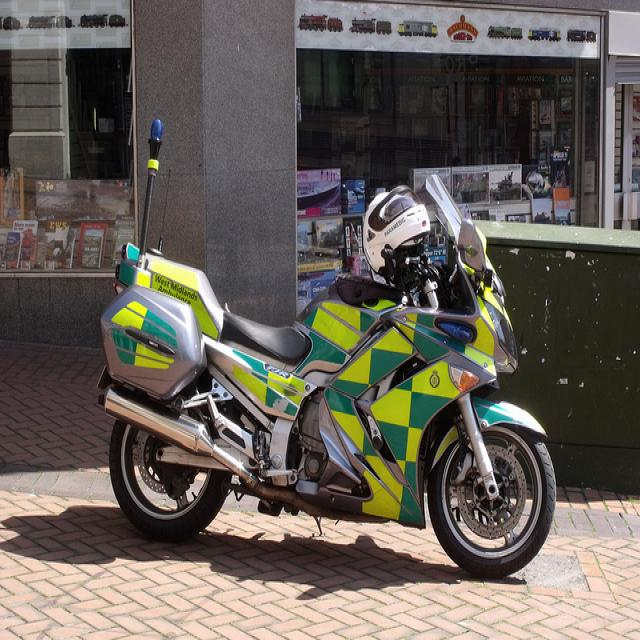motor: (97, 111, 560, 580)
